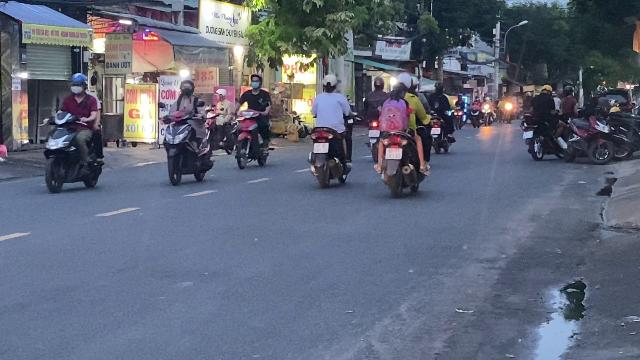helmet: (68, 72, 88, 96), (319, 74, 337, 92), (178, 77, 195, 96), (393, 72, 413, 88), (248, 74, 262, 90)
licenseplate: (386, 148, 402, 160), (314, 143, 328, 153)
motorcyclist: (41, 71, 108, 192), (371, 71, 431, 197), (159, 76, 215, 184), (306, 73, 354, 187), (232, 73, 274, 169)
nohelmet: (388, 80, 407, 100)
